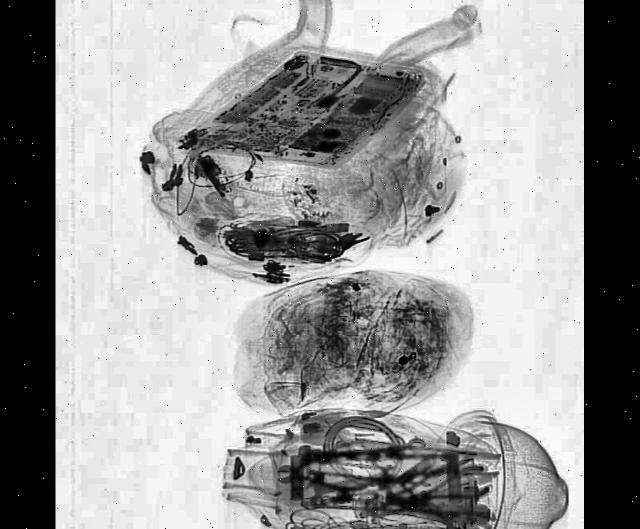Pliers: (401, 456, 488, 520)
